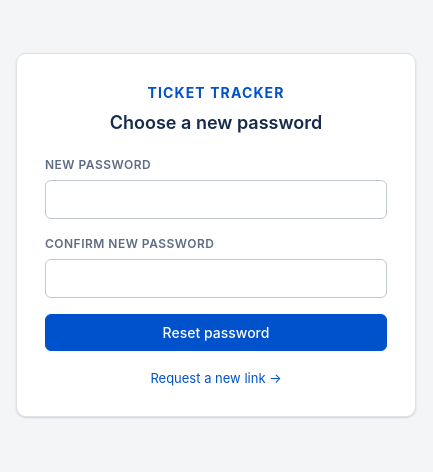
ResetPasswordPage › surfaces a 400 invalid_or_expired_token as an error, keeping the form for a retry
The width and height of the screenshot is (433, 472).
Type "brand new password" into the password field labelled "New password".
click(216, 199); type("brand new password")  # box left=45, top=180, right=387, bottom=219
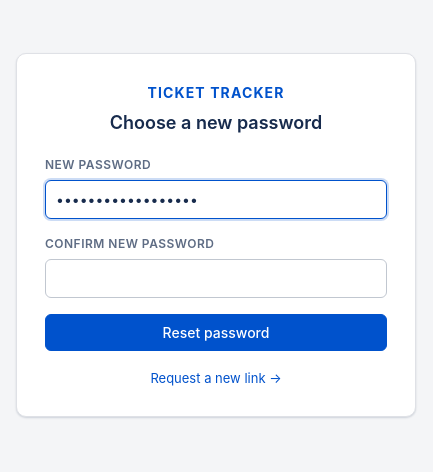
Type "brand new password" into the password field labelled "Confirm new password".
click(216, 278); type("brand new password")  # box left=45, top=259, right=387, bottom=298
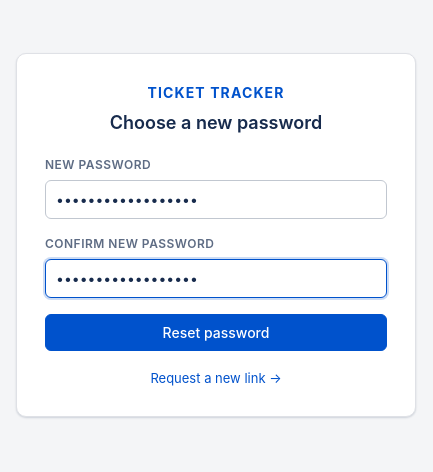
Click the button "Reset password".
click(216, 332)  # box left=45, top=314, right=387, bottom=351
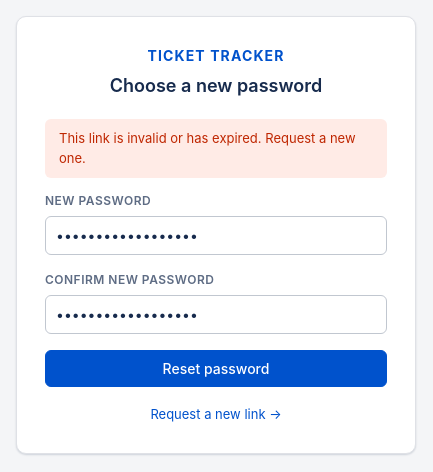
Expected: the button "Reset password" is shown, left=45, top=350, right=387, bottom=387
Now the text "This link is invalid or has expired. Request a new one." is shown, box left=45, top=119, right=387, bottom=178
